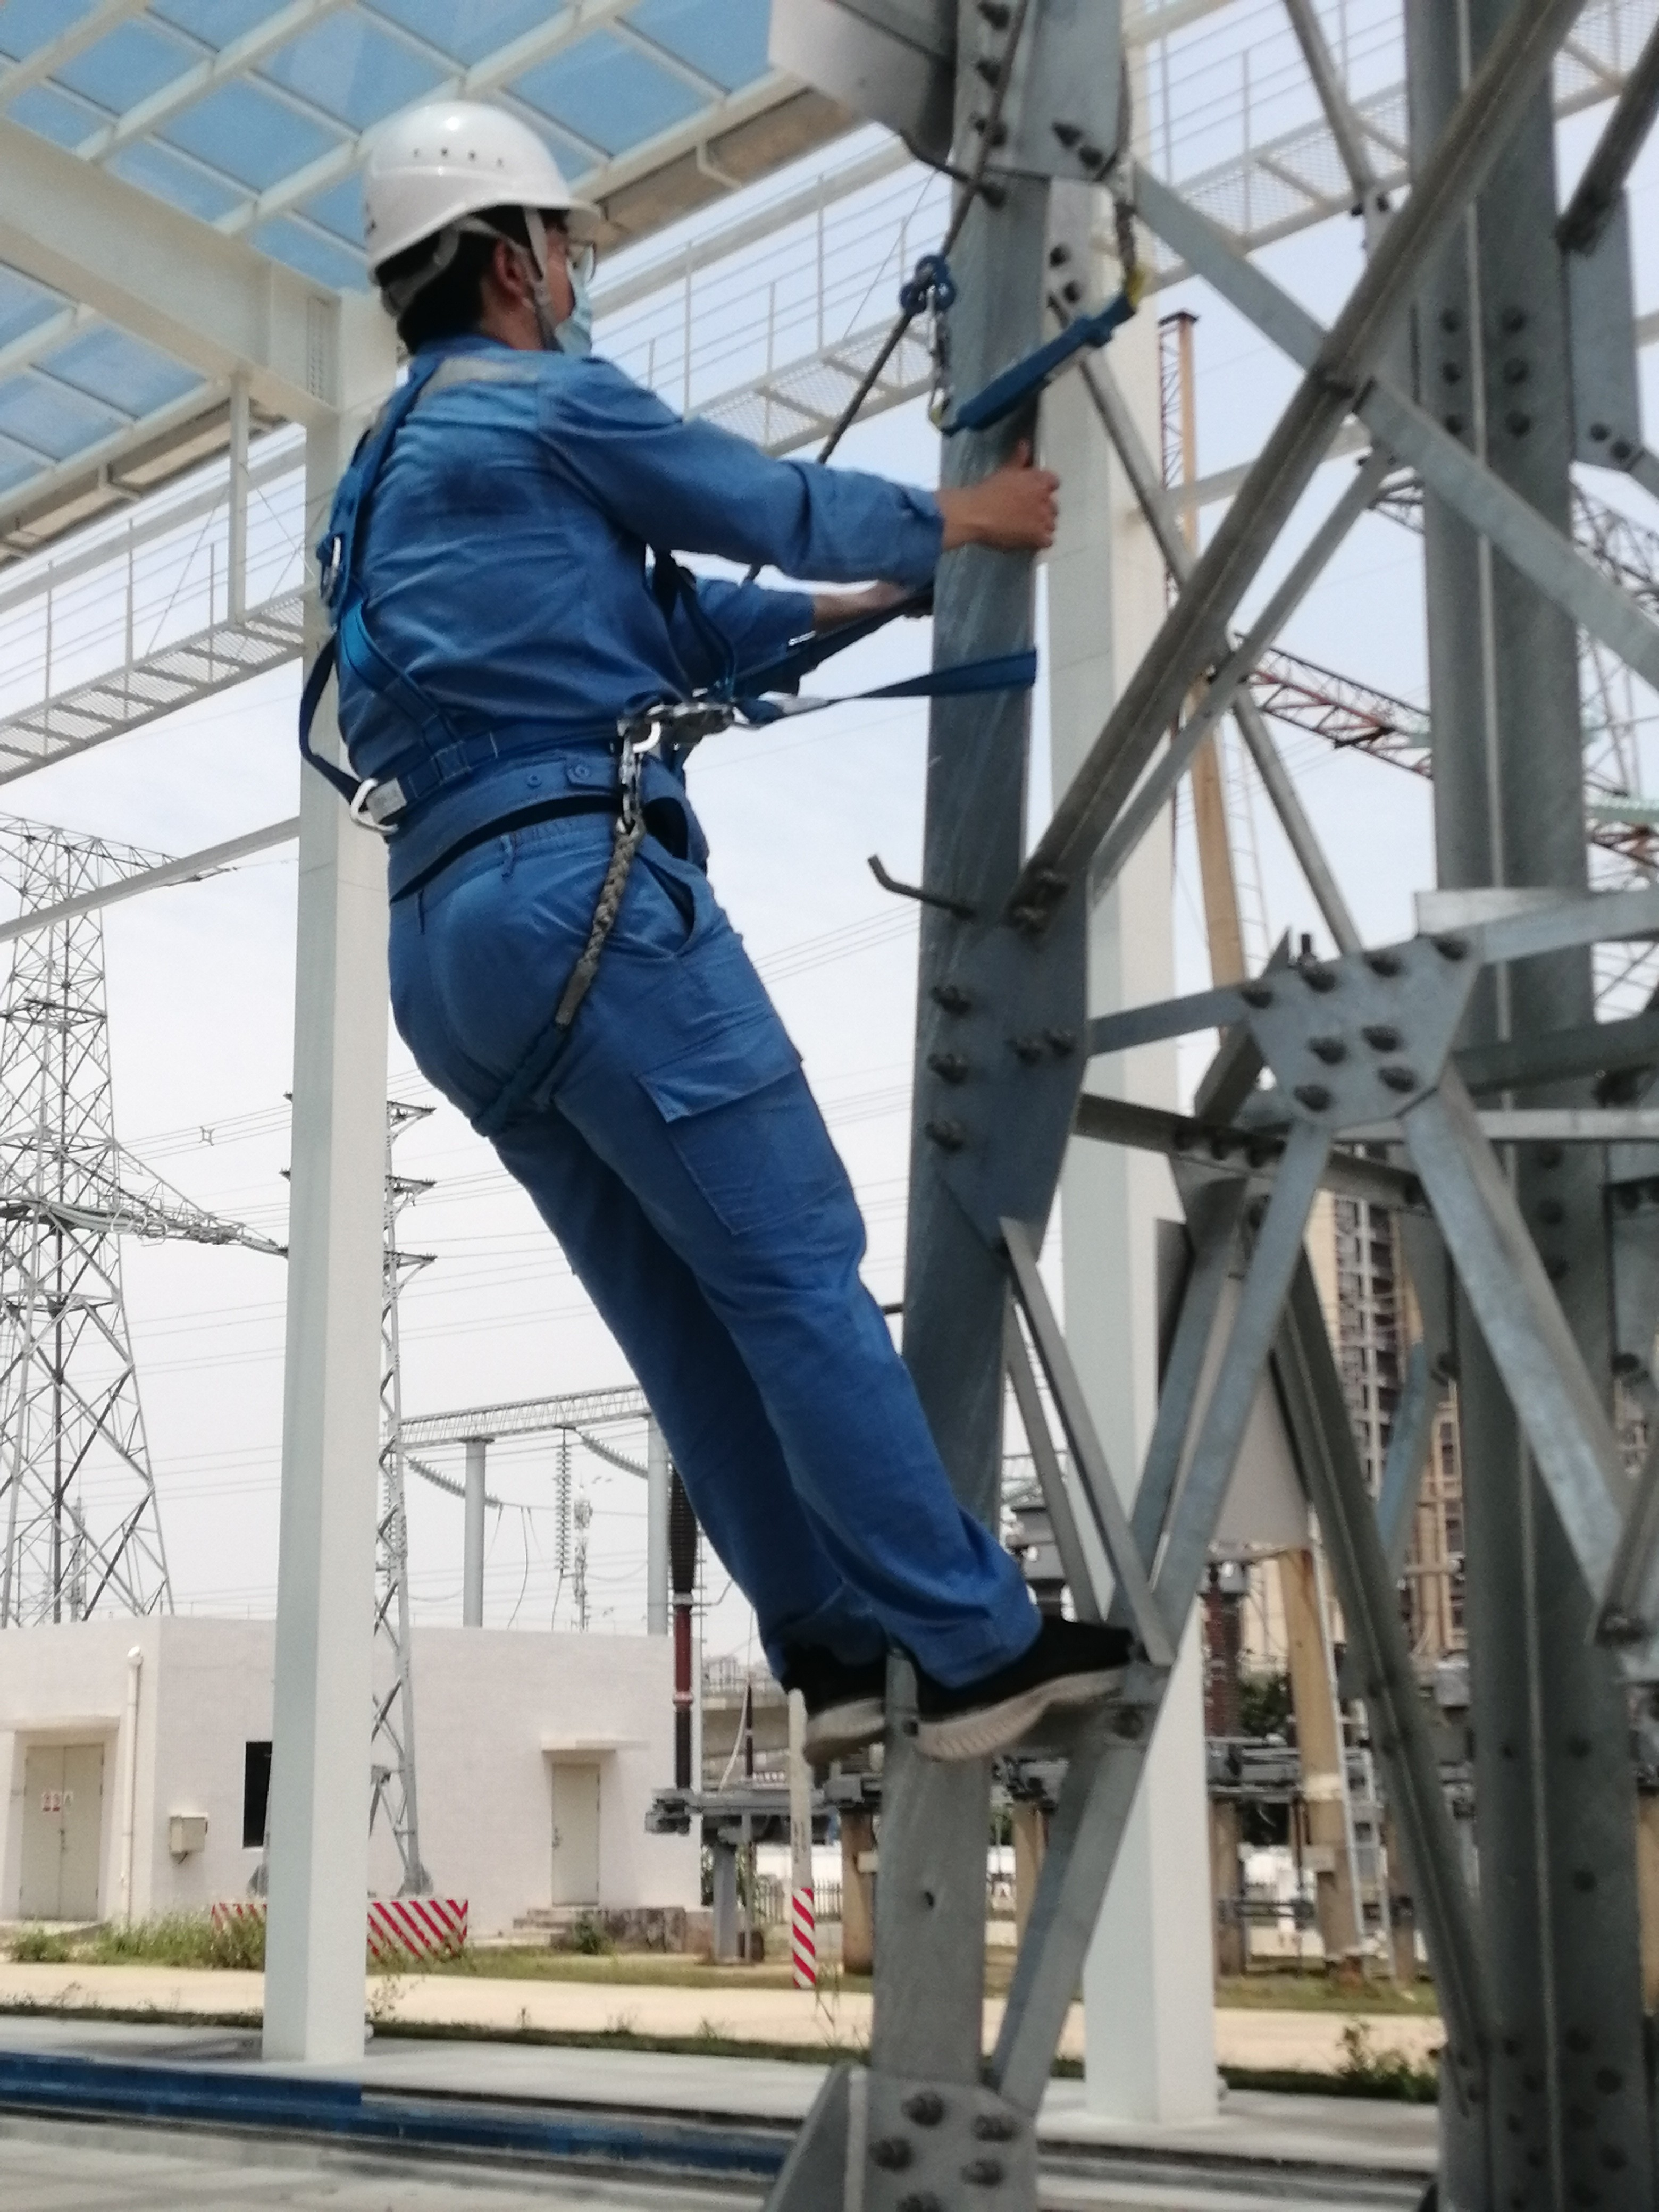downsuit: (383, 855, 1030, 1686)
upsuit: (322, 355, 953, 819)
